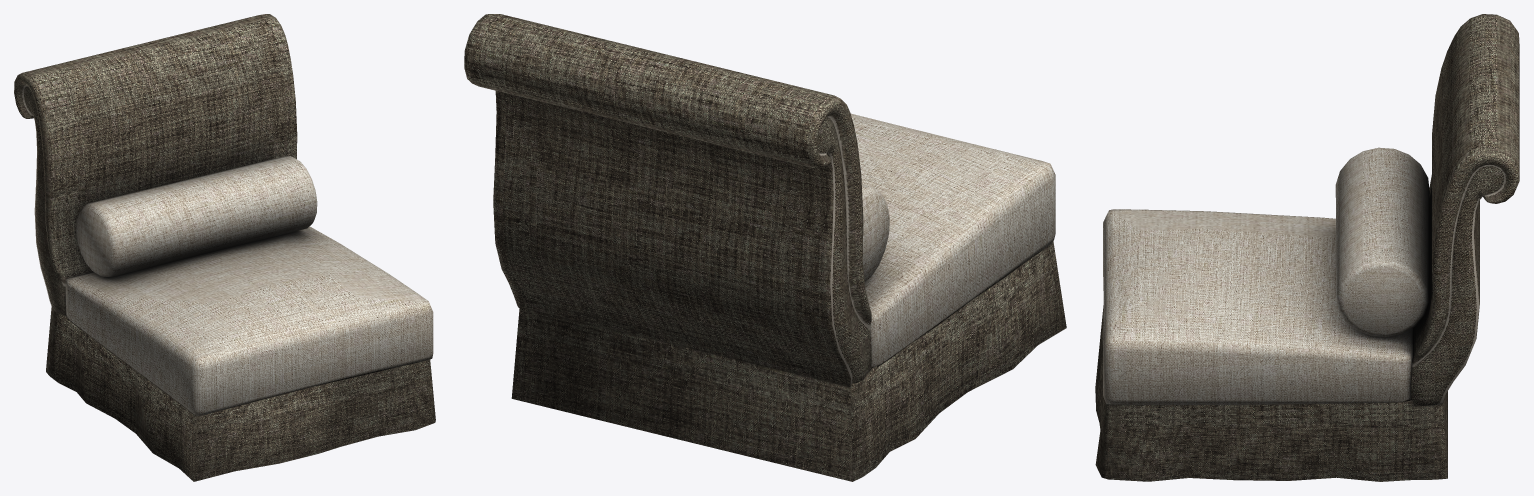
File: Arm Chair_B.DAE
3 renders of one model, left to right at view 1: azimuth 30°, elevation 25°; view 2: azimuth 150°, elevation 25°; view 3: azimuth 270°, elevation 25°, orthographic. The views are drawn at different scales.
Parts seen in each view (by area): view 1: Arm_Chair_B; view 2: Arm_Chair_B; view 3: Arm_Chair_B.
Boxes of the visible parts, x1,y1,x2,y2 form: Arm_Chair_B: (14, 14, 435, 481); Arm_Chair_B: (464, 14, 1066, 481); Arm_Chair_B: (1095, 14, 1519, 481).
Bounding box in the file's own units: 0.742 × 0.9398 × 0.8035.
1 material, 1 textured.
